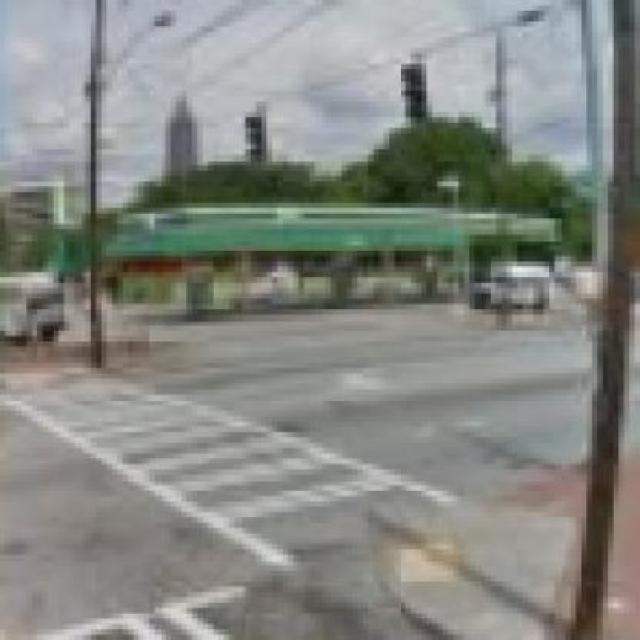crosswalk: (13, 382, 441, 559), (38, 585, 238, 637)
